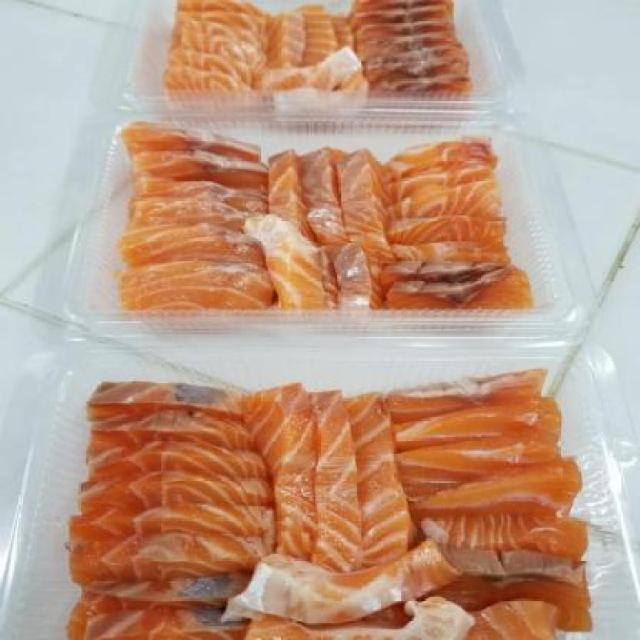salmon: (67, 360, 608, 640), (107, 115, 548, 343), (146, 3, 489, 131)
